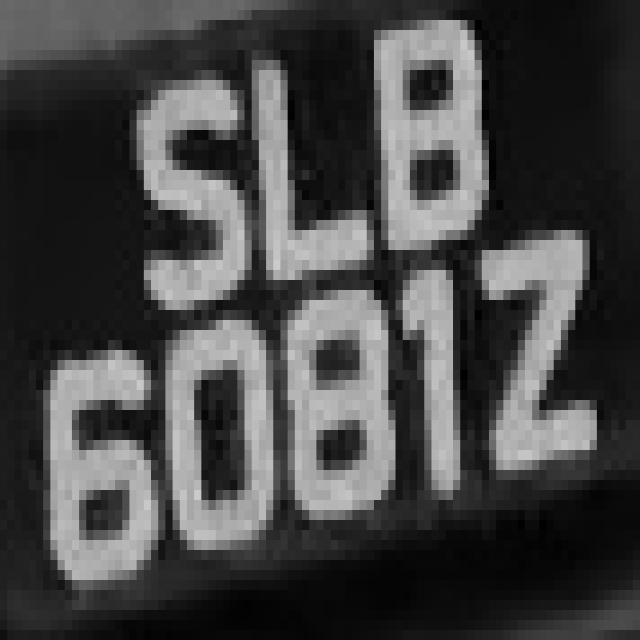0: (144, 290, 280, 580)
1: (403, 250, 489, 530)
6: (29, 310, 151, 610)
8: (259, 300, 410, 540)
B: (374, 20, 503, 270)
L: (252, 40, 374, 300)
S: (130, 50, 252, 320)
Z: (461, 190, 618, 500)
